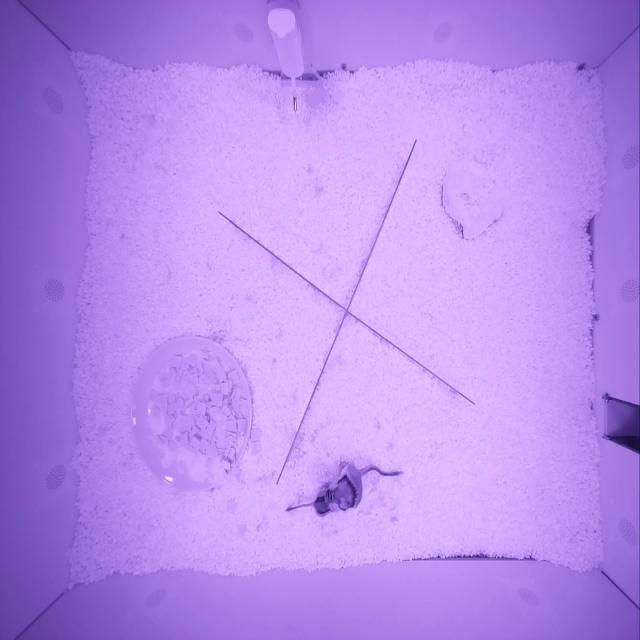adult_front: (325, 463, 363, 512)
pup_v_stripe: (313, 485, 335, 517)
